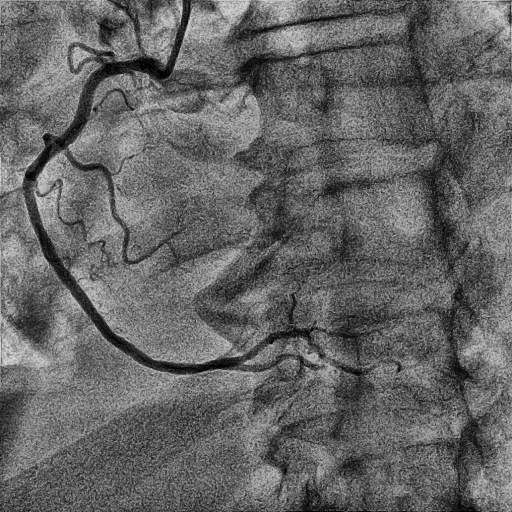pborca: (236, 329, 311, 364)
pda: (222, 354, 328, 372)
rca: (23, 56, 241, 374)
